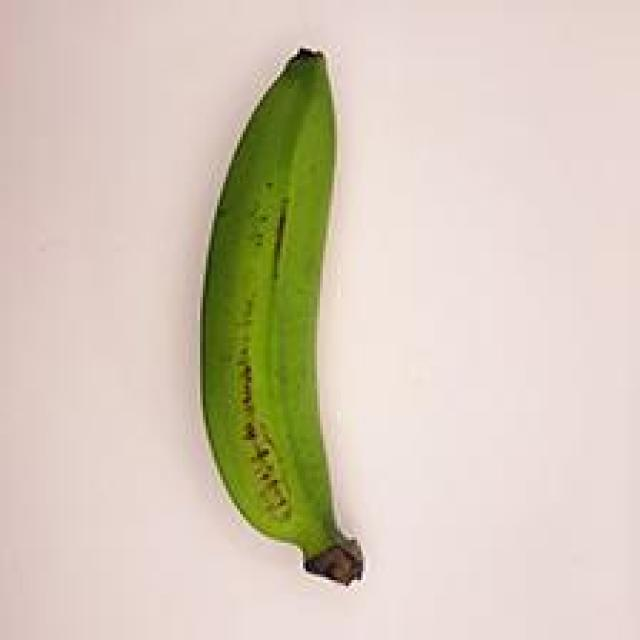Raw: (175, 36, 406, 612)
